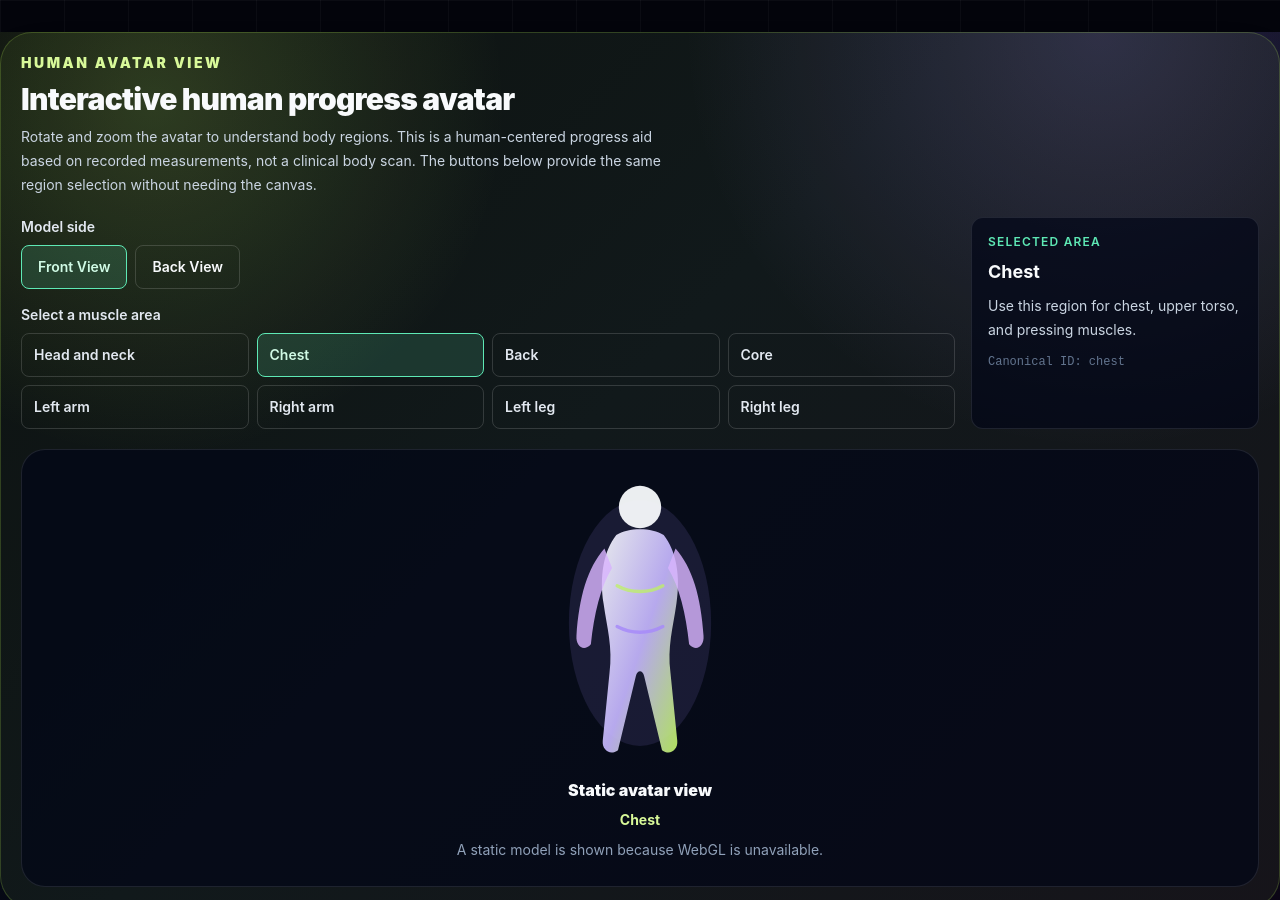
Test: body model capability and states › provides equivalent list controls with canonical region identifiers
Click the button "Back" at point(606, 355), box [492,333,720,377]
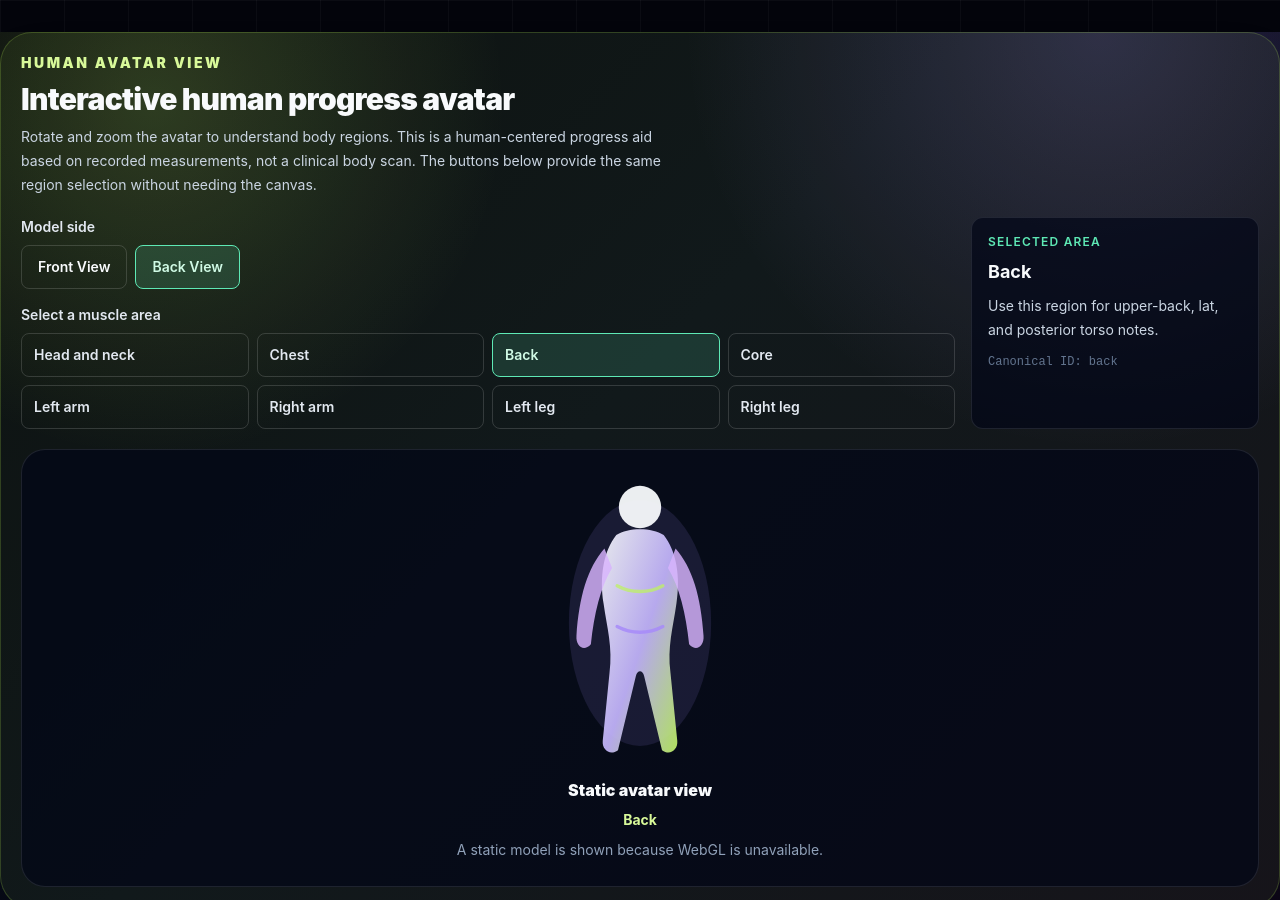
Now the text "Canonical ID: back" is shown, box [988,355,1118,369]
Now the text "upper-back, lat, and posterior torso" is shown, box [988,297,1218,338]
